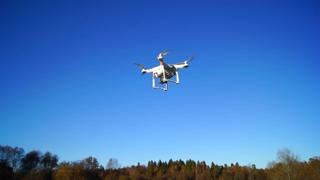UAV: (133, 50, 194, 91)
